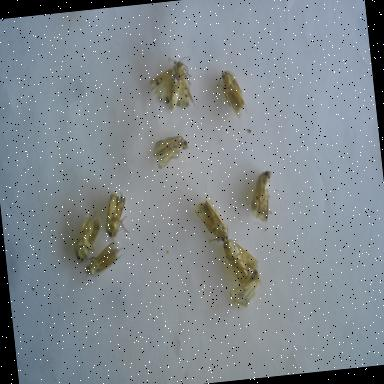abw: (189, 192, 230, 248), (244, 166, 281, 226), (78, 237, 127, 282), (220, 236, 262, 288), (68, 209, 106, 266), (214, 66, 252, 122), (224, 266, 266, 312), (100, 188, 134, 244), (150, 130, 193, 174)
